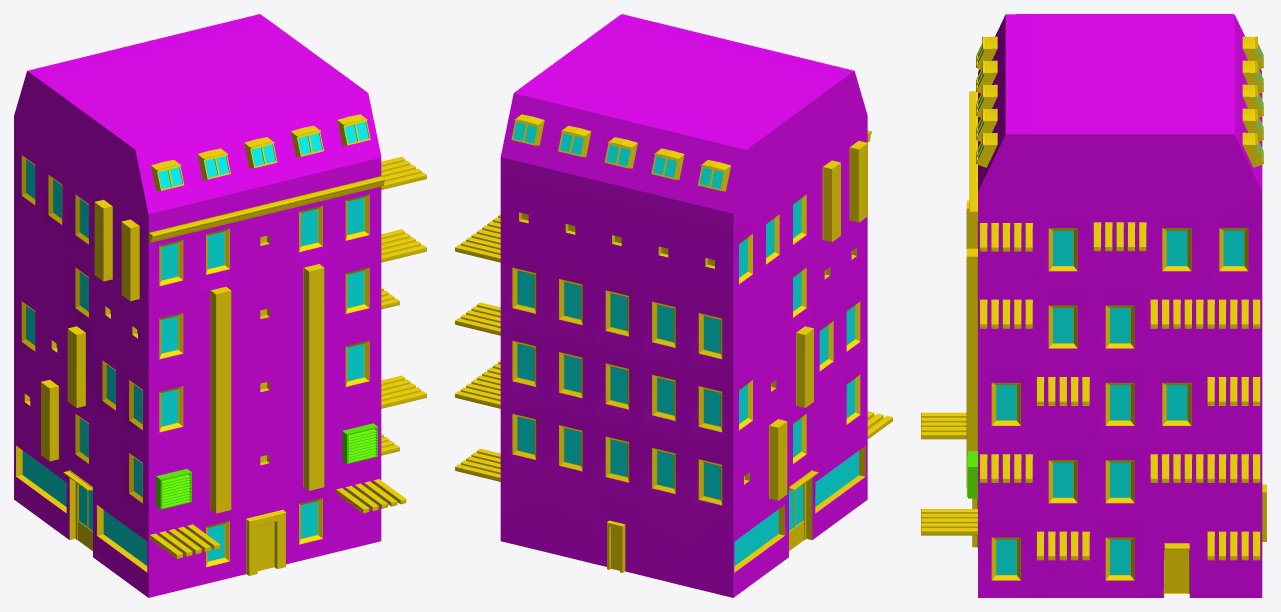
3 renders of one model, left to right at view 1: azimuth 30°, elevation 25°; view 2: azimuth 150°, elevation 25°; view 3: azimuth 270°, elevation 25°, orthographic. The views are drawn at different scales.
Parts seen in each view (by area): view 1: B_05, Bar_Deco_B_05, Bar_Deco_B_05_02; view 2: B_05, Bar_Deco_B_05; view 3: B_05, Bar_Deco_B_05, Bar_Deco_B_05_02.
Boxes of the visible parts, bbox=[...] form: B_05: bbox=[14, 14, 385, 597]; Bar_Deco_B_05: bbox=[381, 156, 426, 455]; Bar_Deco_B_05_02: bbox=[150, 479, 406, 558]; B_05: bbox=[500, 14, 871, 597]; Bar_Deco_B_05: bbox=[455, 214, 500, 481]; B_05: bbox=[966, 14, 1266, 597]; Bar_Deco_B_05: bbox=[979, 222, 1260, 560]; Bar_Deco_B_05_02: bbox=[921, 412, 977, 535].
Size of the model in its own units: 1240 by 1800 by 1216.
